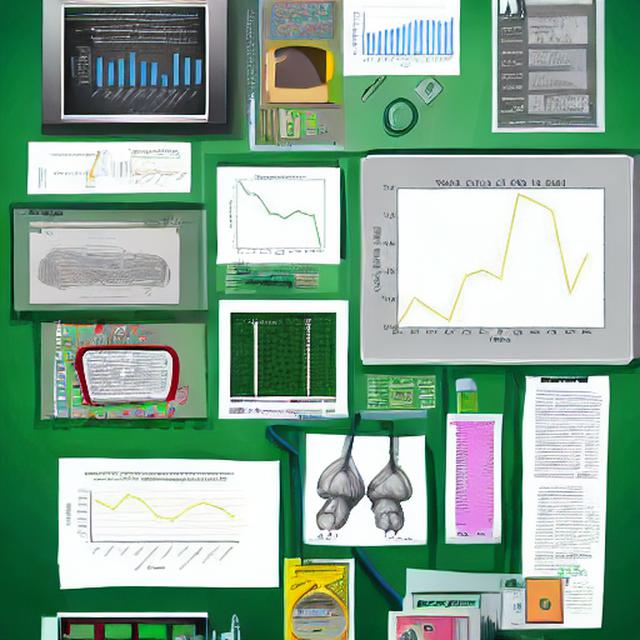Graph: (364, 158, 631, 358), (66, 468, 243, 574), (72, 35, 206, 115), (220, 169, 338, 258), (350, 1, 456, 70), (122, 150, 189, 189)
